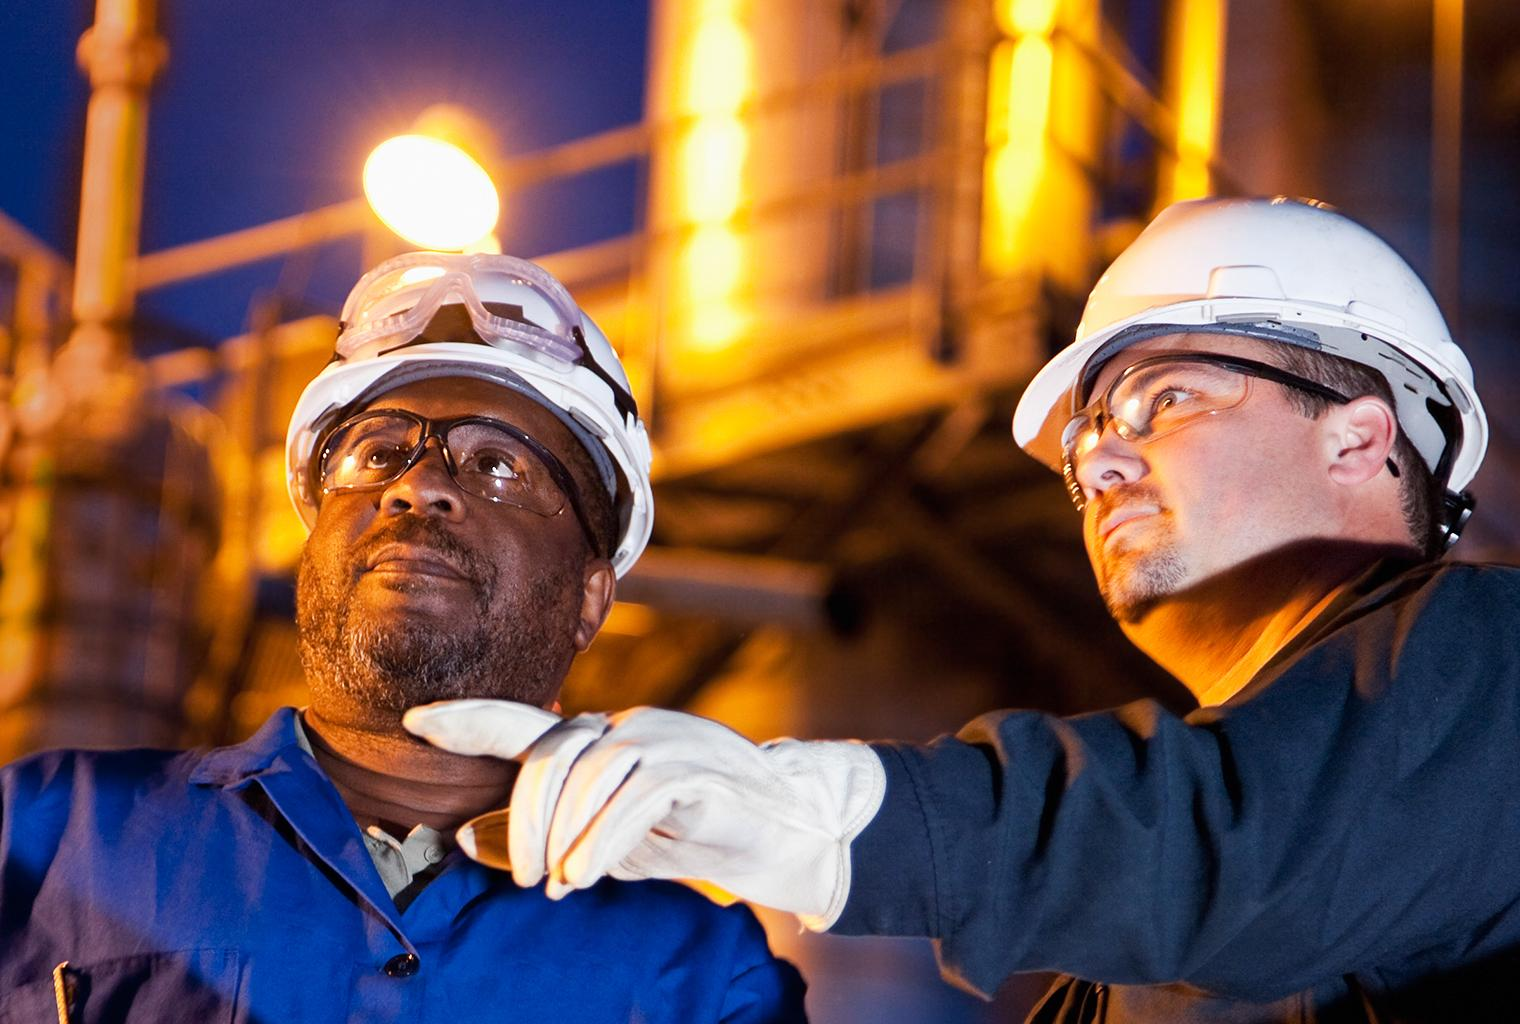helmet: (1025, 195, 1519, 538), (281, 255, 656, 581)
